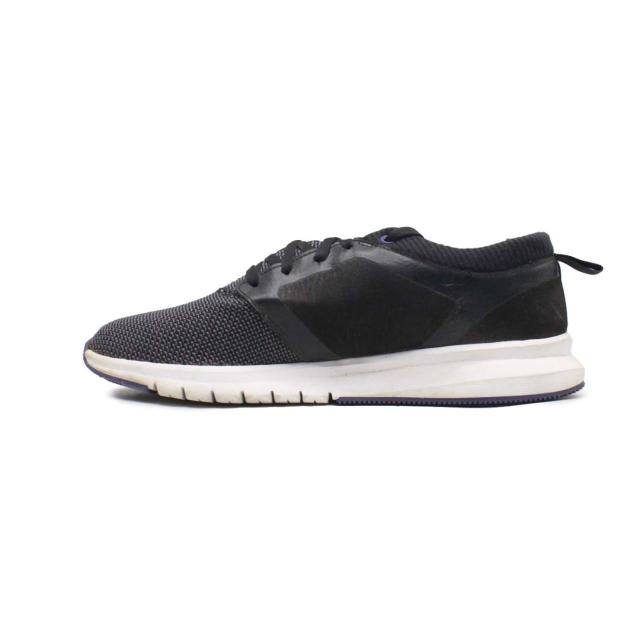heel: (499, 229, 601, 343)
midsole: (86, 333, 586, 409)
uppersole: (90, 225, 501, 367)
